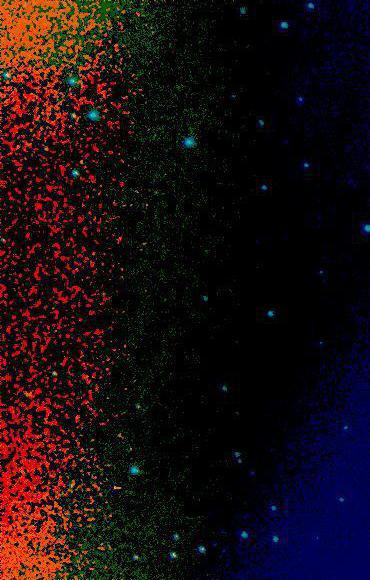star: (108, 476, 138, 506)
